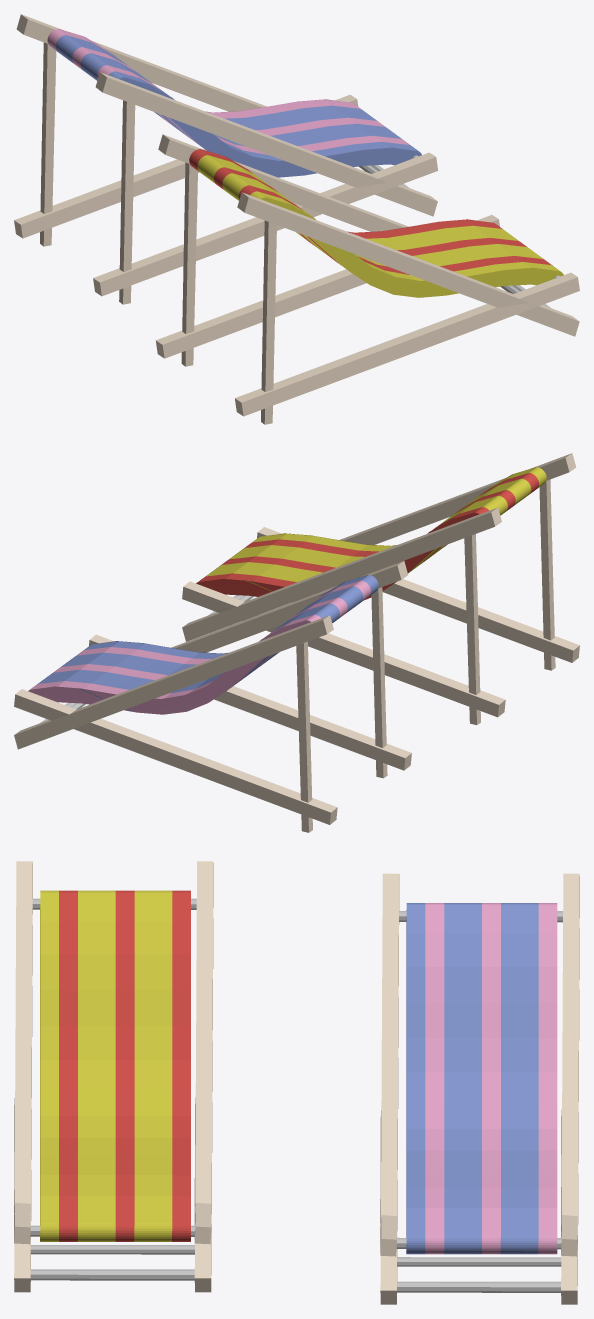
Rendered from Cadeira de Praia.fbx.
The picture shows the model from 3 angles, top to bottom: view 1: azimuth 30°, elevation 25°; view 2: azimuth 150°, elevation 25°; view 3: azimuth 270°, elevation 25°; orthographic projection. The views are drawn at different scales.
Parts seen in each view (by area): view 1: Cylinder.003, Cylinder.000; view 2: Cylinder.000, Cylinder.003; view 3: Cylinder.000, Cylinder.003.
Boxes of the visible parts, x1,y1,x2,y2 form: Cylinder.003: [155, 134, 579, 424]; Cylinder.000: [14, 14, 438, 304]; Cylinder.000: [14, 561, 411, 832]; Cylinder.003: [182, 453, 579, 724]; Cylinder.000: [380, 873, 579, 1304]; Cylinder.003: [14, 861, 213, 1292].
Bounding box in the file's own units: 515 × 324 × 620.
